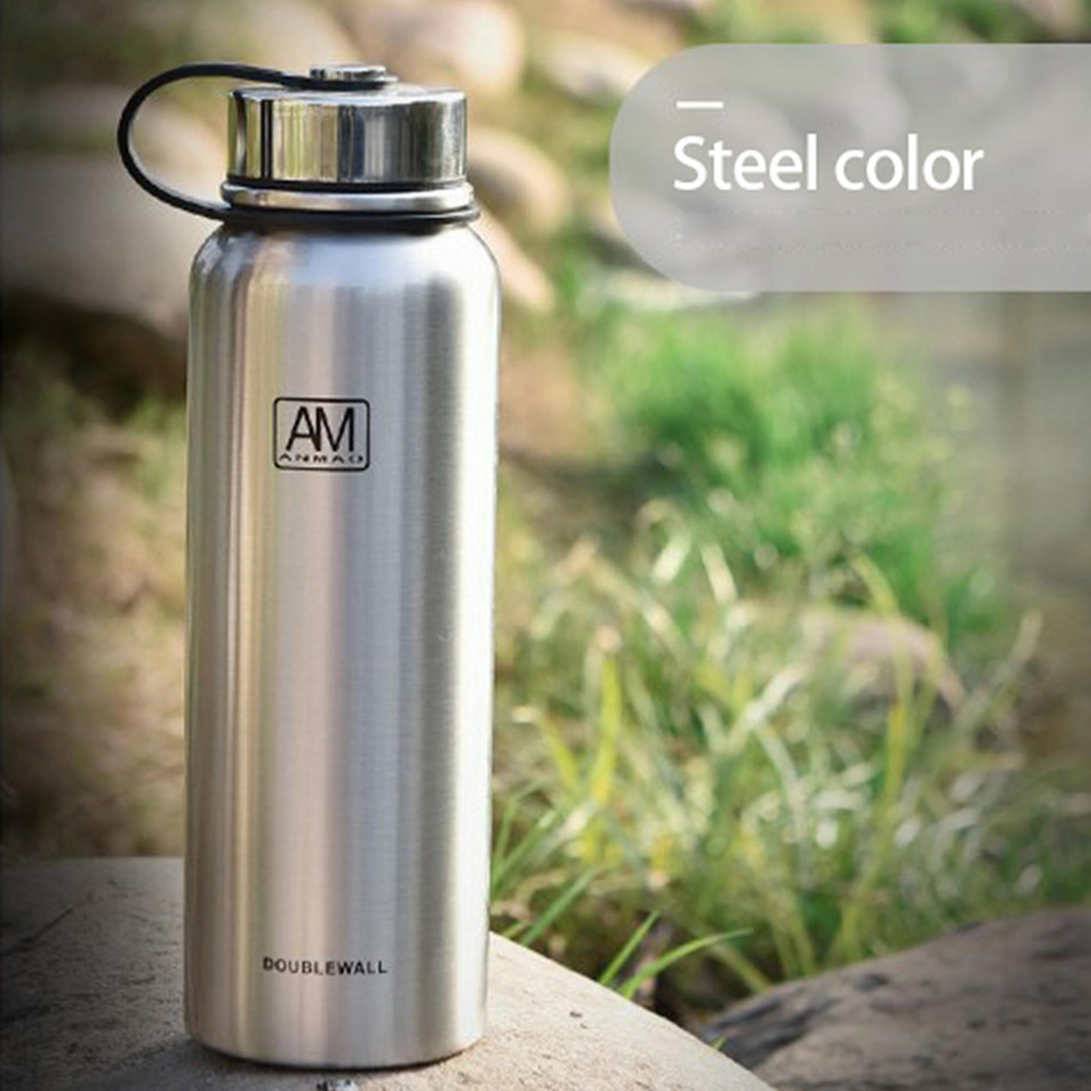gym bottle: (153, 64, 507, 1081)
